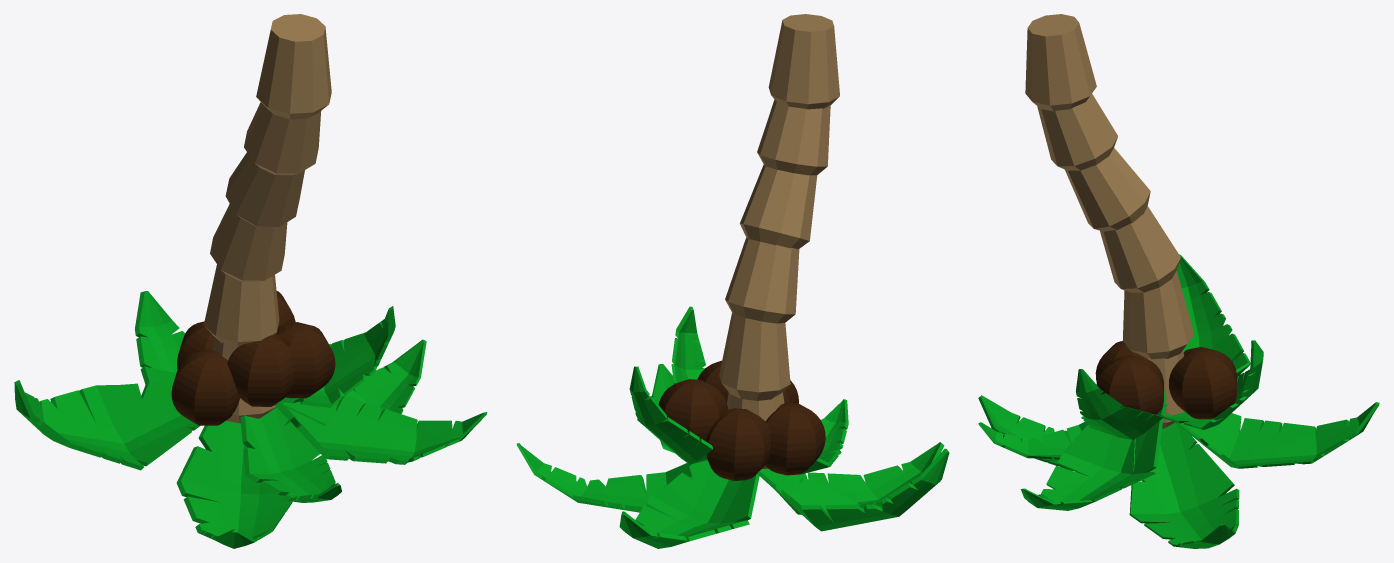
File: PalmTree_tryfix.fbx
3 renders of one model, left to right at view 1: azimuth 30°, elevation 25°; view 2: azimuth 150°, elevation 25°; view 3: azimuth 270°, elevation 25°, orthographic. The views are drawn at different scales.
Parts seen in each view (by area): view 1: Cylinder.005; view 2: Cylinder.005; view 3: Cylinder.005.
Part boxes in pixels (x1=…): Cylinder.005: x1=14, y1=14, x2=487, y2=548; Cylinder.005: x1=516, y1=14, x2=949, y2=548; Cylinder.005: x1=978, y1=14, x2=1379, y2=548.
Bounding box in the file's own units: 1293 × 1421 × 1115.
